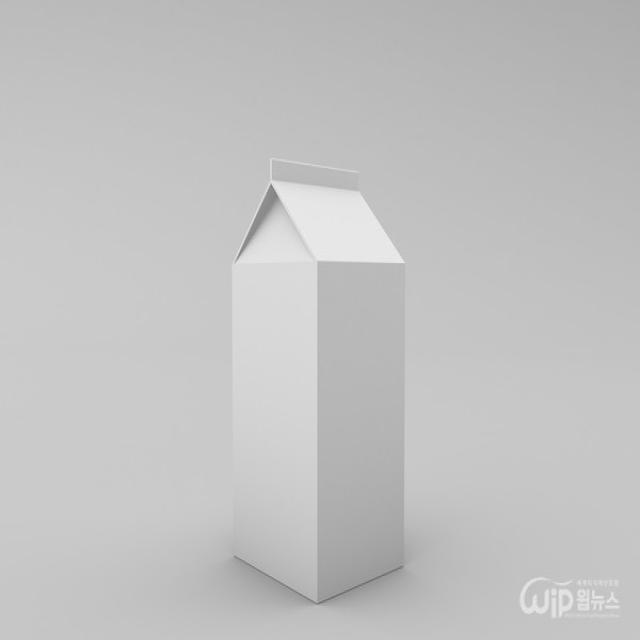Carton: (225, 132, 415, 611)
